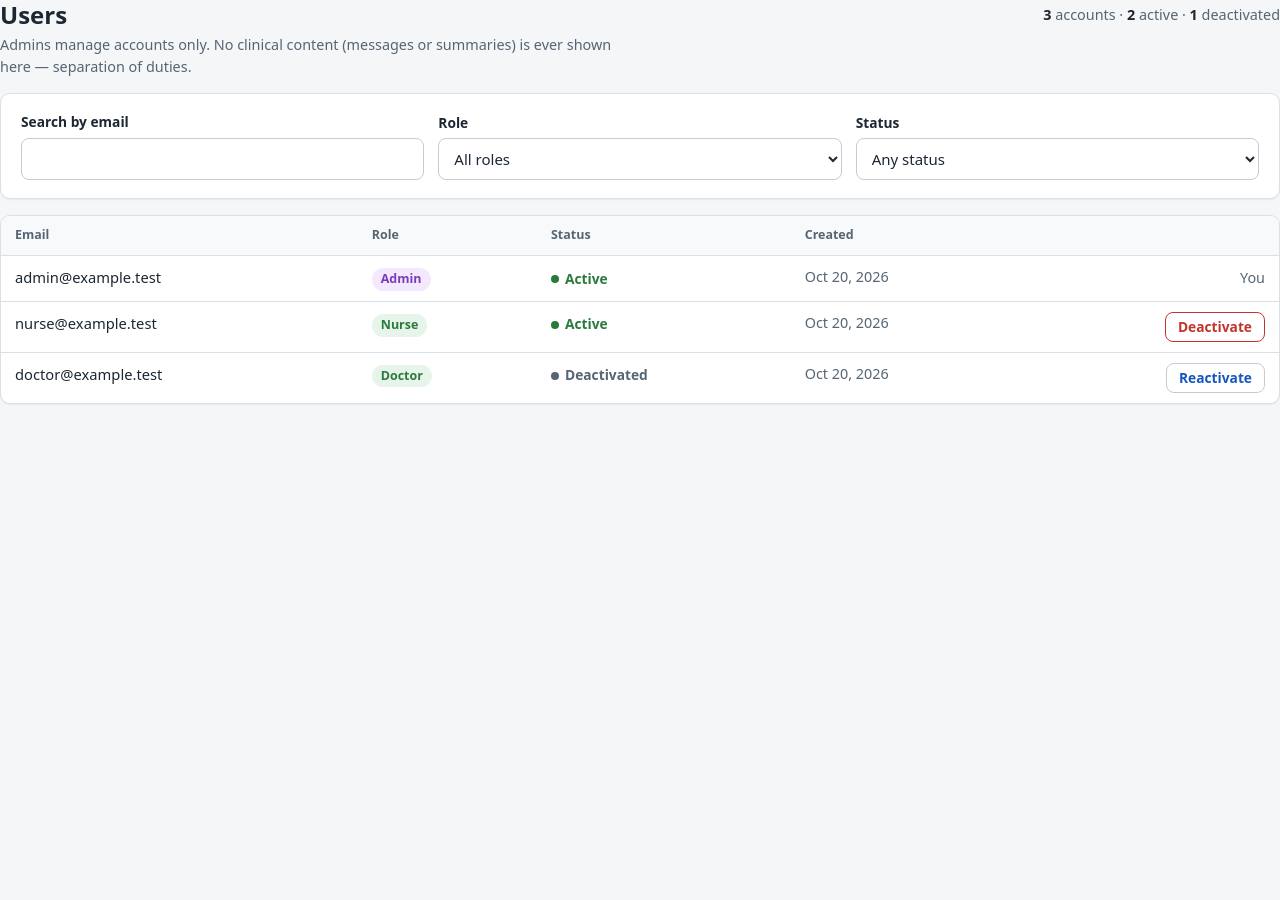
Test: AdminUsers screen › deactivates an active user only after confirming, and shows a notice
Click the button "Deactivate" at (1215, 327), box [1165,312,1265,342]
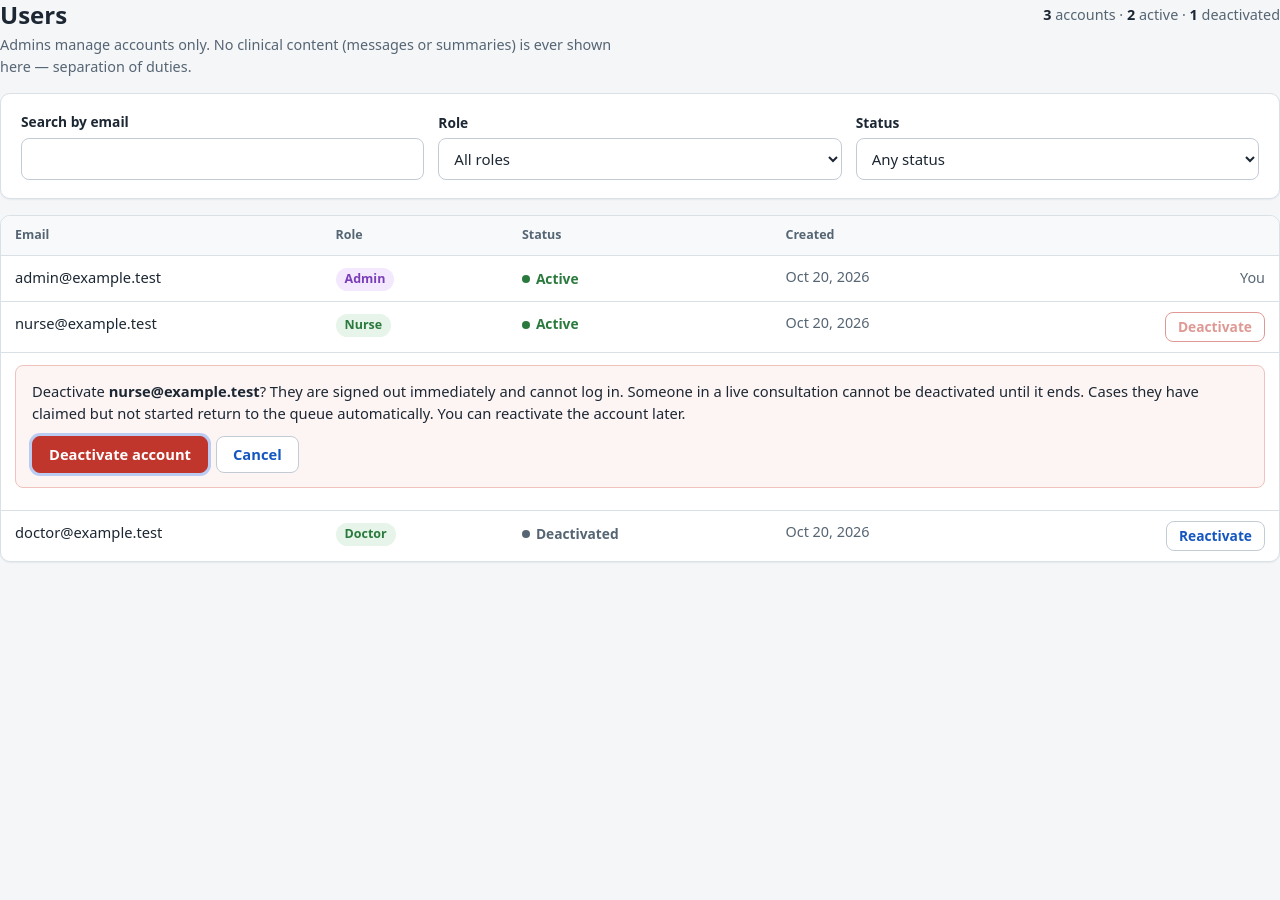
Now the dialog shows "cannot be deactivated until it ends", box [260,381,1084,401]
Now the dialog shows "return to the queue automatically", box [32,381,1199,423]
Click the button "Deactivate account" at (120, 454), box [32,436,208,473]
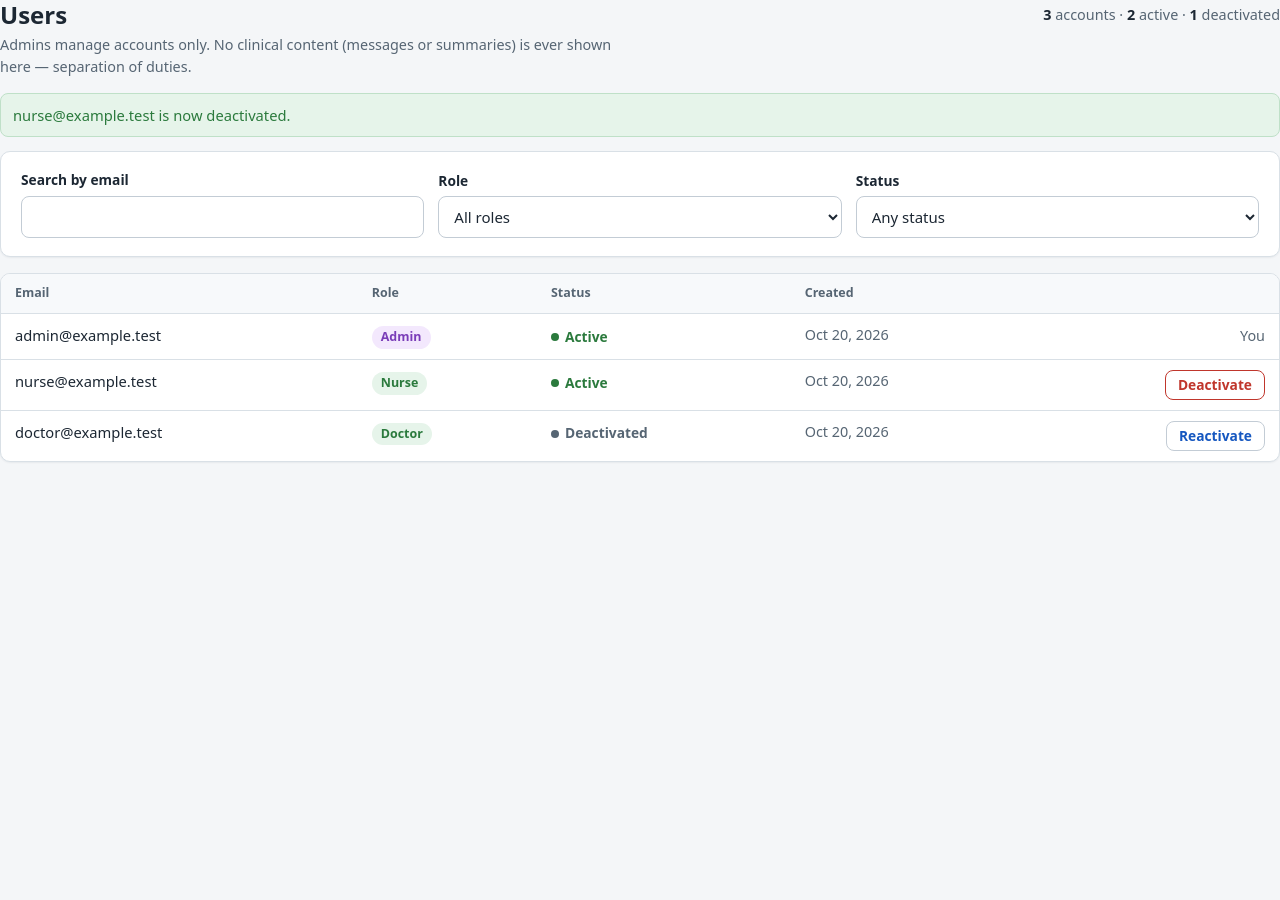
Now the text "nurse@example.test is now deactivated." is shown, box [0,93,1279,137]
